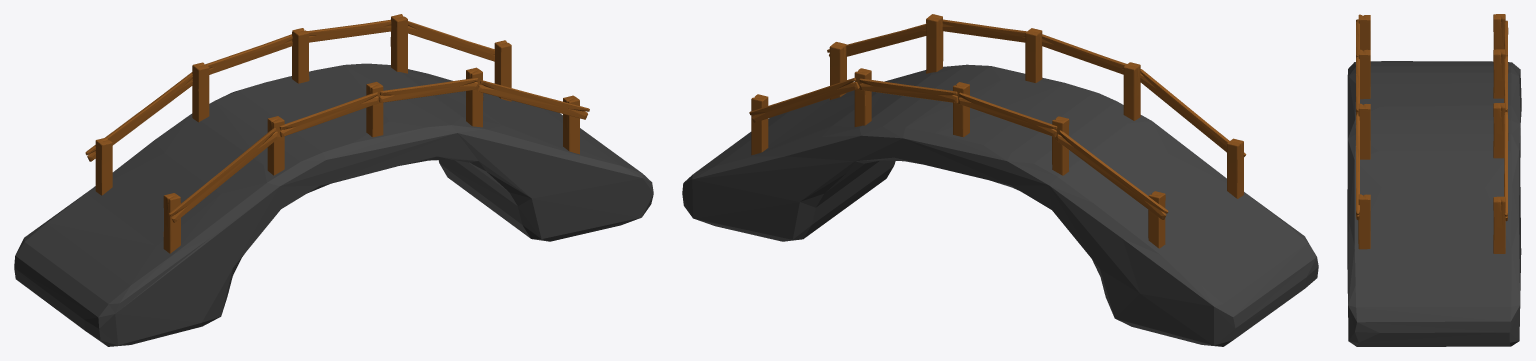
Rendered from Bridge.fbx.
3 renders of one model, left to right at view 1: azimuth 30°, elevation 25°; view 2: azimuth 150°, elevation 25°; view 3: azimuth 270°, elevation 25°, orthographic. The views are drawn at different scales.
Visible parts, largest first — view 1: Bridge; view 2: Bridge; view 3: Bridge.
Part boxes in pixels (x1,y1,x2,y2): Bridge: [14, 14, 653, 346]; Bridge: [682, 14, 1318, 346]; Bridge: [1347, 14, 1521, 346].
Size of the model in its own units: 12.78 by 4.3 by 3.78.
